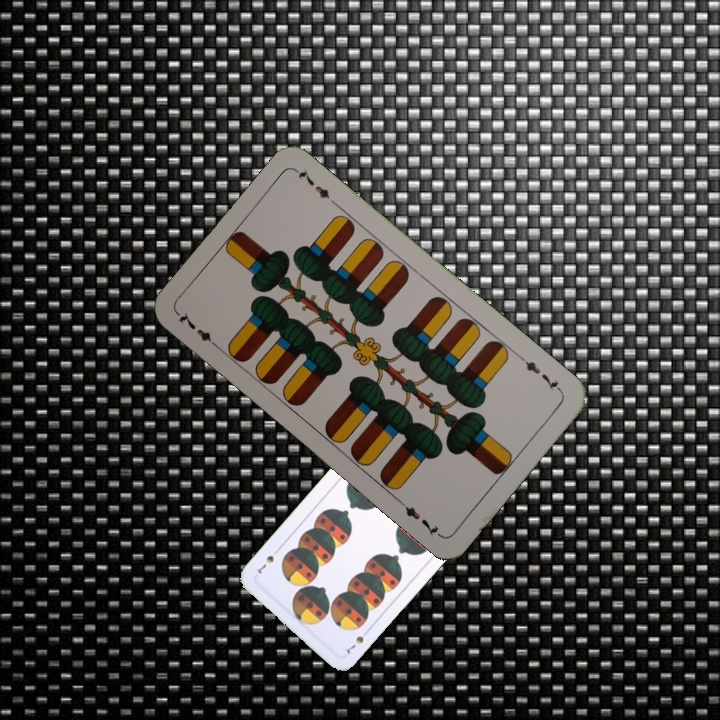E7: (174, 308, 222, 351), (516, 352, 565, 394)
S7: (342, 625, 372, 657)
